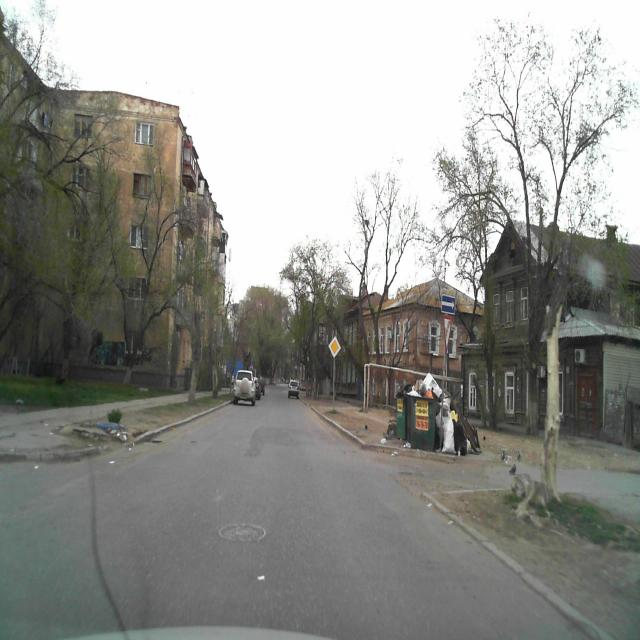road sign: (442, 316, 453, 347), (440, 294, 456, 313), (328, 334, 340, 357)
